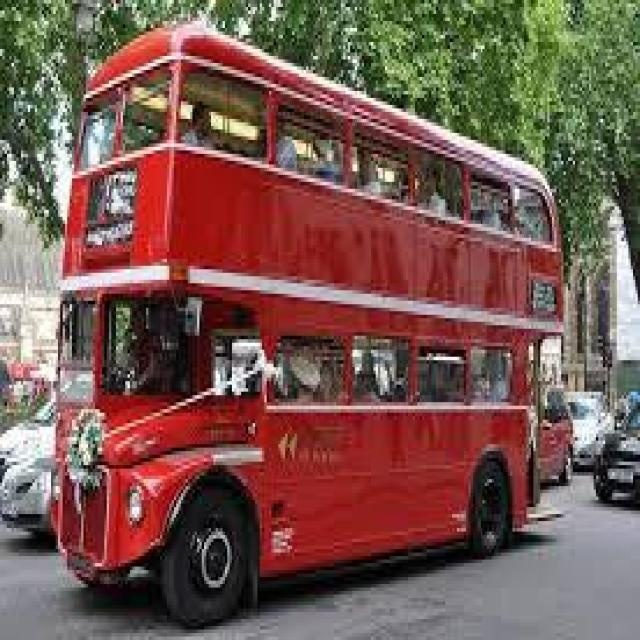Bus: (46, 21, 568, 633)
